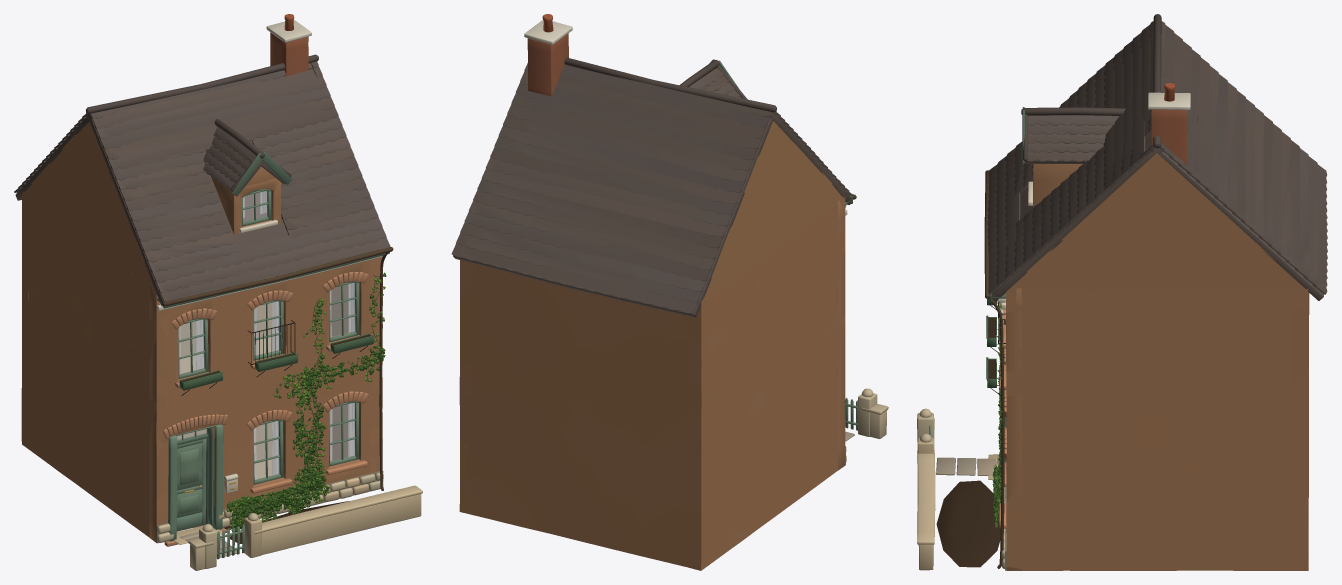
The model's file is Opposite_Opposite1_2.glb.
3 renders of one model, left to right at view 1: azimuth 30°, elevation 25°; view 2: azimuth 150°, elevation 25°; view 3: azimuth 270°, elevation 25°, orthographic. The views are drawn at different scales.
Visible parts, largest first — view 1: Sammel Ziegel, Sammel Stein, Sammel Lack, Sammel Putz, Sammel Pflanze, Glas, Sammel Putz innen, Sammel Metall, Vorhang Leinen; view 2: Sammel Ziegel, Sammel Stein, Sammel Putz; view 3: Sammel Ziegel, Sammel Stein, Sammel Putz, Sammel Metall, Sammel Pflanze, Sammel Lack.
Part boxes in pixels (left/top/right/bottom): Sammel Ziegel: left=21, top=32, right=382, bottom=542; Sammel Stein: left=14, top=54, right=422, bottom=570; Sammel Lack: left=157, top=151, right=389, bottom=559; Sammel Putz: left=156, top=14, right=383, bottom=546; Sammel Pflanze: left=226, top=272, right=386, bottom=532; Glas: left=177, top=191, right=354, bottom=479; Sammel Putz innen: left=177, top=284, right=348, bottom=531; Sammel Metall: left=162, top=247, right=393, bottom=493; Vorhang Leinen: left=178, top=191, right=354, bottom=479; Sammel Ziegel: left=459, top=33, right=845, bottom=570; Sammel Stein: left=451, top=57, right=888, bottom=461; Sammel Putz: left=524, top=14, right=847, bottom=464; Sammel Ziegel: left=1006, top=109, right=1309, bottom=570; Sammel Stein: left=917, top=14, right=1327, bottom=570; Sammel Putz: left=936, top=82, right=1190, bottom=570; Sammel Metall: left=984, top=170, right=1005, bottom=568; Sammel Pflanze: left=992, top=304, right=1003, bottom=528; Sammel Lack: left=929, top=107, right=1024, bottom=462.
Bounding box in the file's own units: 6.14 × 10.87 × 8.43.
